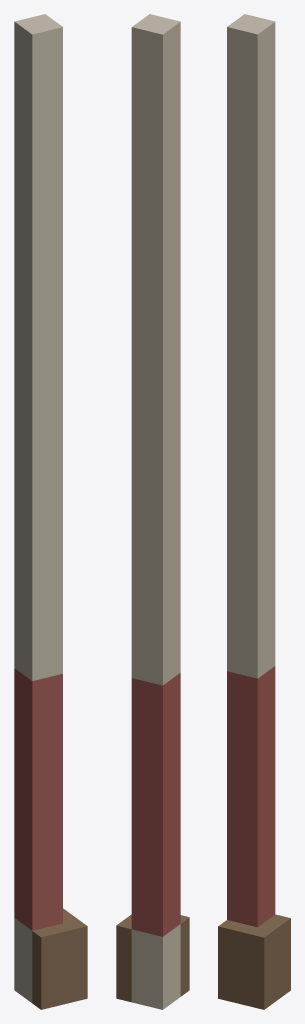
Rendered from Mesh_WallBaseboard2Colors_D6.fbx.
3 renders of one model, left to right at view 1: azimuth 30°, elevation 25°; view 2: azimuth 150°, elevation 25°; view 3: azimuth 330°, elevation 25°, orthographic.
Visible parts, largest first — view 1: Mesh_WallBaseboard2Colors_D6; view 2: Mesh_WallBaseboard2Colors_D6; view 3: Mesh_WallBaseboard2Colors_D6.
Part boxes in pixels (bbox=[...]): Mesh_WallBaseboard2Colors_D6: bbox=[14, 14, 87, 1009]; Mesh_WallBaseboard2Colors_D6: bbox=[116, 14, 189, 1009]; Mesh_WallBaseboard2Colors_D6: bbox=[218, 14, 290, 1009].
Bounding box in the file's own units: 0.15 × 3 × 0.15.
